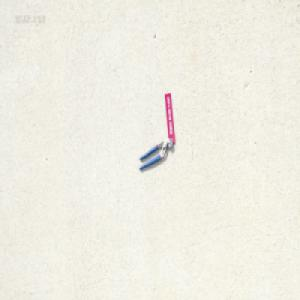Label: (164, 91, 175, 143)
Pliers: (138, 136, 172, 171)
